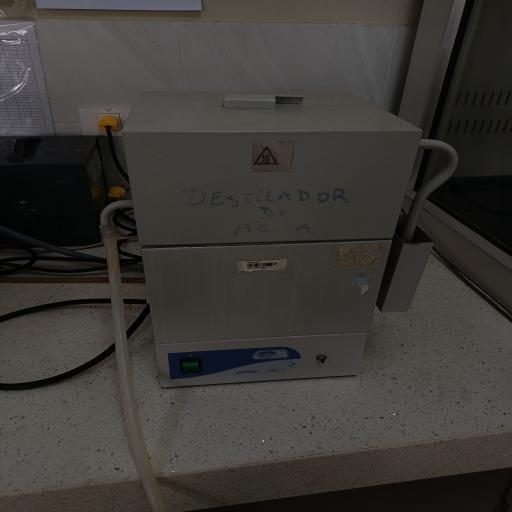Destilador_agua: (108, 78, 430, 392)
